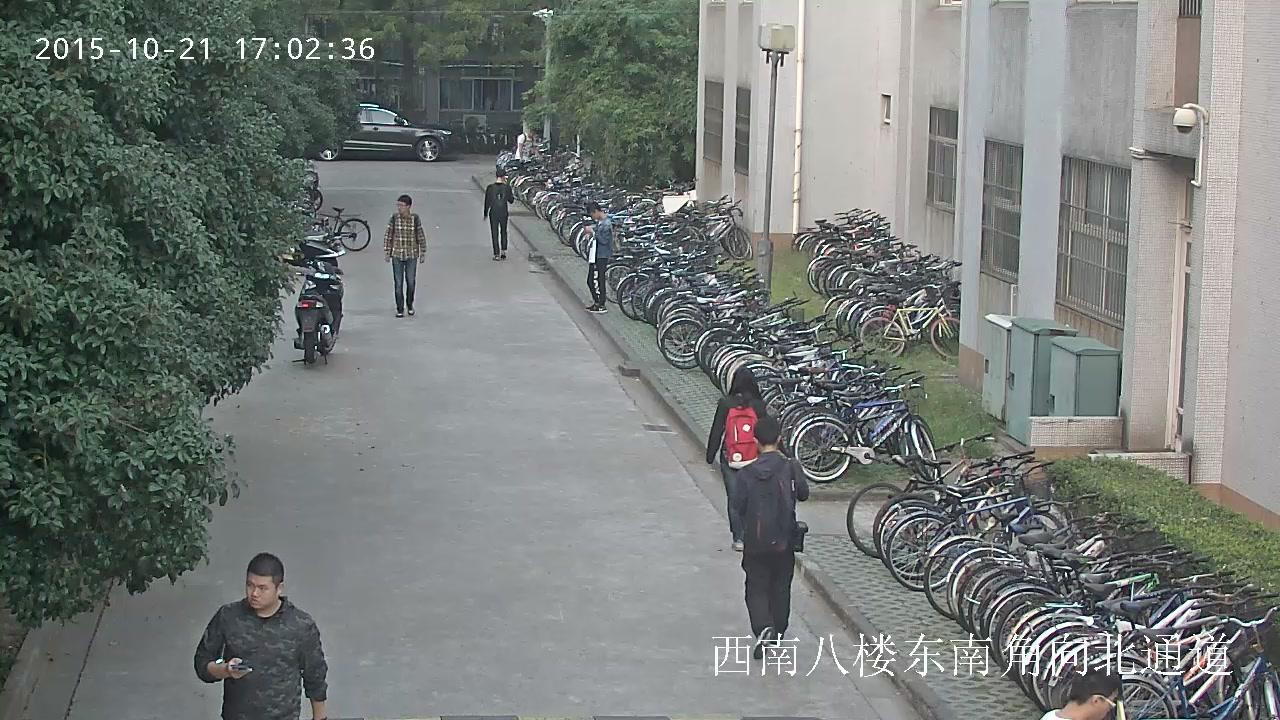face: (245, 570, 275, 608), (1098, 689, 1121, 719), (397, 201, 407, 213), (588, 212, 597, 219), (527, 129, 533, 136)
